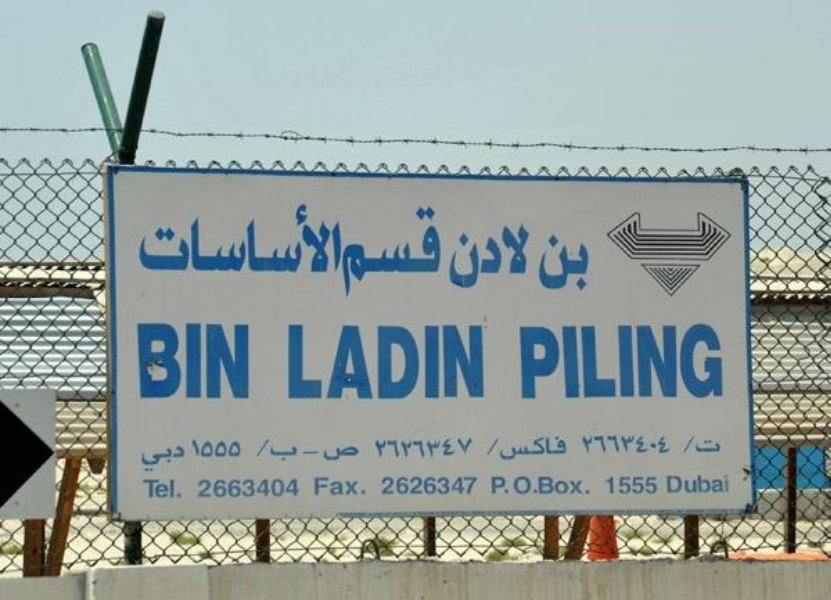text: (353, 204, 368, 297), (369, 204, 384, 297), (385, 204, 400, 297), (401, 204, 416, 297), (417, 204, 432, 297), (289, 319, 304, 401), (305, 319, 320, 401), (321, 319, 336, 401), (337, 319, 352, 401), (353, 319, 368, 401), (369, 319, 384, 401), (385, 319, 400, 401), (401, 319, 416, 401), (417, 319, 432, 401), (433, 319, 448, 401), (449, 319, 464, 401), (465, 319, 480, 401), (145, 322, 160, 401), (161, 322, 176, 401), (177, 322, 192, 401), (193, 322, 208, 401), (209, 322, 224, 401), (225, 322, 240, 401), (145, 201, 160, 278), (161, 201, 176, 278), (177, 201, 192, 278), (193, 201, 208, 278), (209, 201, 224, 278), (225, 201, 240, 278), (241, 201, 256, 278), (257, 201, 272, 278), (273, 201, 288, 278), (289, 201, 304, 278), (305, 201, 320, 278), (321, 201, 336, 278), (449, 217, 464, 293), (465, 217, 480, 293), (481, 217, 496, 293), (497, 217, 512, 293), (513, 217, 528, 293), (529, 325, 544, 401), (545, 325, 560, 401), (561, 325, 576, 401), (577, 325, 592, 401), (593, 325, 608, 401), (609, 325, 624, 401), (625, 325, 640, 401), (641, 325, 656, 401), (657, 325, 672, 401), (673, 325, 688, 401), (689, 325, 704, 401), (705, 325, 720, 401), (433, 204, 445, 297), (545, 233, 560, 297), (561, 233, 576, 297), (577, 233, 592, 297), (241, 322, 253, 401), (343, 204, 352, 297), (517, 325, 528, 401), (135, 322, 144, 401), (535, 233, 544, 297), (145, 438, 160, 474), (161, 438, 176, 474), (337, 201, 344, 278), (497, 433, 512, 463), (513, 433, 528, 463), (529, 433, 544, 463), (545, 433, 560, 463), (385, 434, 400, 462), (401, 434, 416, 462), (417, 434, 432, 462), (433, 434, 448, 462), (449, 434, 464, 462), (257, 437, 272, 465), (273, 437, 288, 465), (289, 437, 304, 465), (305, 437, 320, 465), (321, 437, 336, 465), (337, 437, 352, 465), (193, 434, 208, 462), (209, 434, 224, 462), (225, 434, 240, 462), (145, 476, 160, 504), (161, 476, 176, 504), (283, 319, 288, 401), (385, 472, 400, 499), (401, 472, 416, 499), (417, 472, 432, 499), (433, 472, 448, 499), (449, 472, 464, 499), (353, 473, 369, 498), (370, 434, 384, 462), (139, 201, 144, 278), (593, 431, 608, 456), (609, 431, 624, 456), (625, 431, 640, 456), (641, 431, 656, 456), (321, 473, 336, 498), (337, 473, 352, 498), (497, 474, 512, 499), (513, 474, 528, 499), (529, 474, 544, 499), (545, 474, 560, 499), (561, 474, 576, 499), (577, 474, 592, 499), (609, 474, 624, 498), (625, 474, 640, 498), (641, 474, 656, 498), (465, 472, 478, 499), (657, 431, 671, 456), (689, 433, 704, 456), (705, 433, 720, 456), (209, 476, 224, 499), (225, 476, 240, 499), (241, 476, 256, 499), (257, 476, 272, 499), (273, 476, 288, 499), (673, 472, 688, 495), (689, 472, 704, 495), (705, 472, 720, 495), (465, 434, 477, 462), (579, 431, 592, 456), (177, 438, 186, 474), (721, 325, 725, 401), (196, 476, 208, 499), (289, 476, 301, 499), (487, 433, 496, 463), (561, 433, 570, 463), (721, 472, 732, 495), (529, 217, 532, 293), (353, 437, 361, 465), (177, 476, 185, 504), (312, 473, 320, 498), (489, 474, 496, 499), (665, 472, 672, 495), (446, 217, 448, 293), (140, 438, 144, 474), (187, 434, 192, 462), (241, 434, 246, 462), (682, 433, 688, 456), (379, 472, 384, 499), (603, 474, 608, 498), (481, 319, 482, 401), (657, 474, 660, 498), (142, 476, 144, 504), (593, 474, 595, 499), (721, 433, 723, 456)
